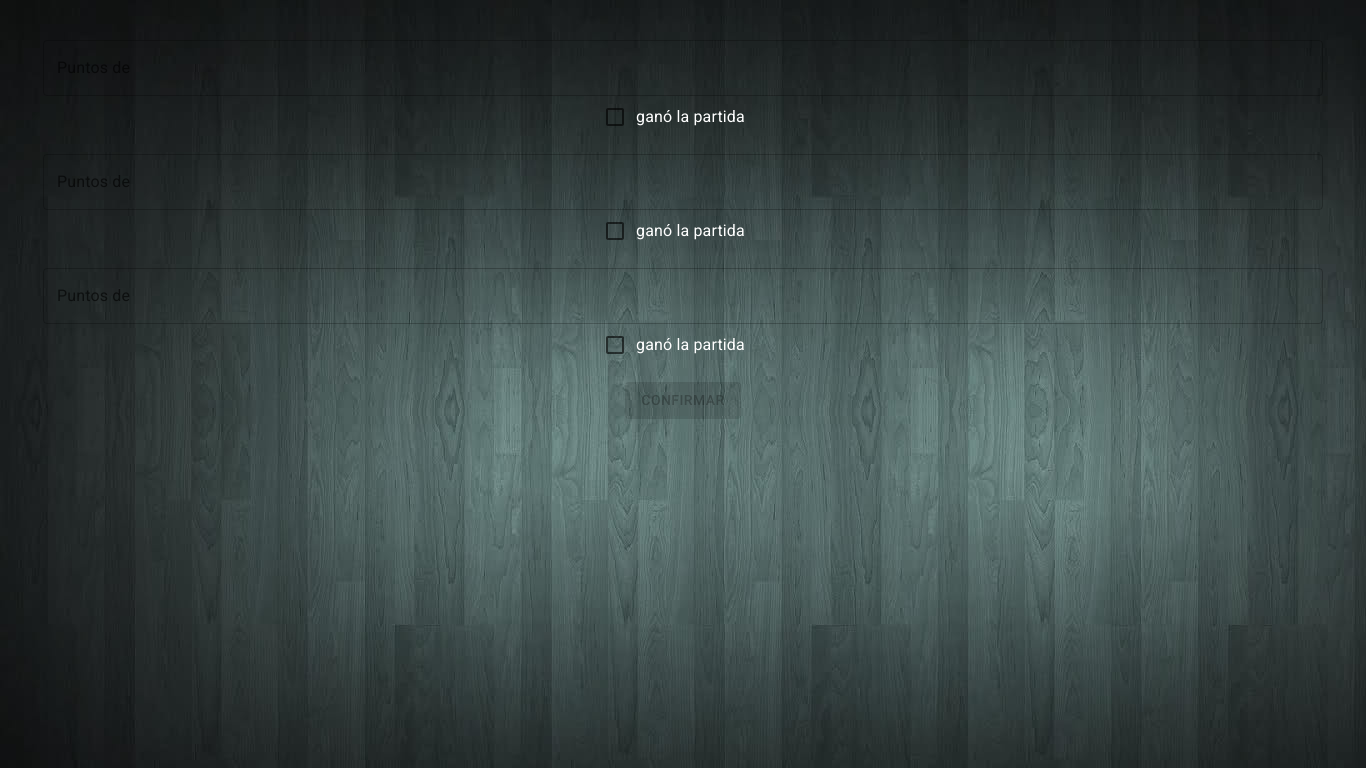
Tests on <EndRoundForm /> › if a winner checkbox is checked should disable the others
This screenshot has width=1366, height=768.
Click the 1st checkbox labelled "ganó la partida". click: (674, 117)
box: [603,105,745,129]
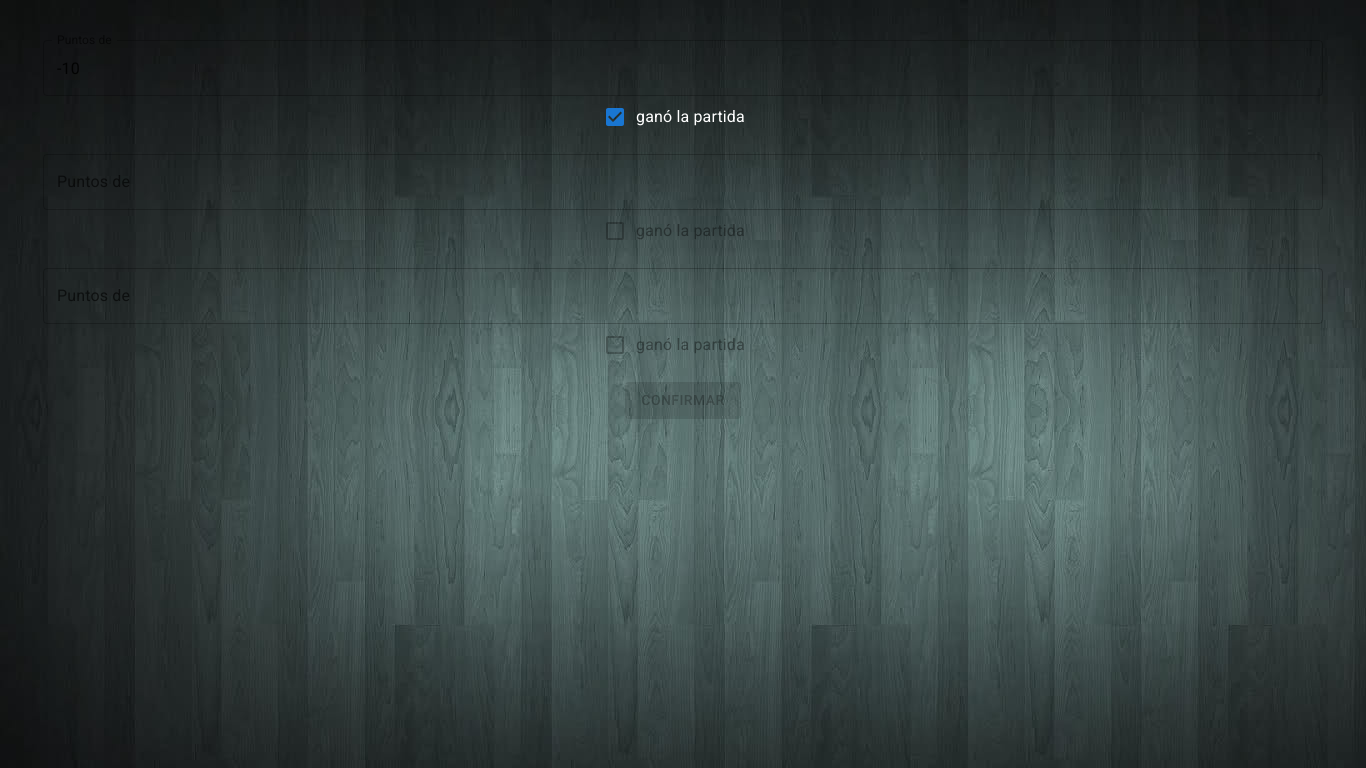
Now the 2nd checkbox labelled "ganó la partida" is disabled, box [603,219,745,243]
Now the 3rd checkbox labelled "ganó la partida" is disabled, box [603,333,745,357]
